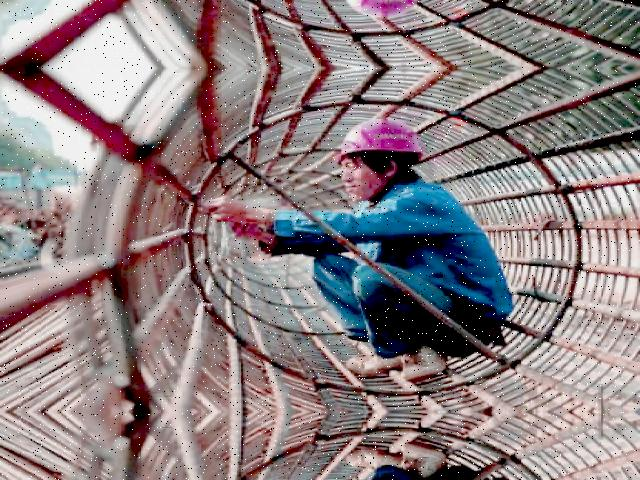Helmet: (327, 113, 425, 166)
